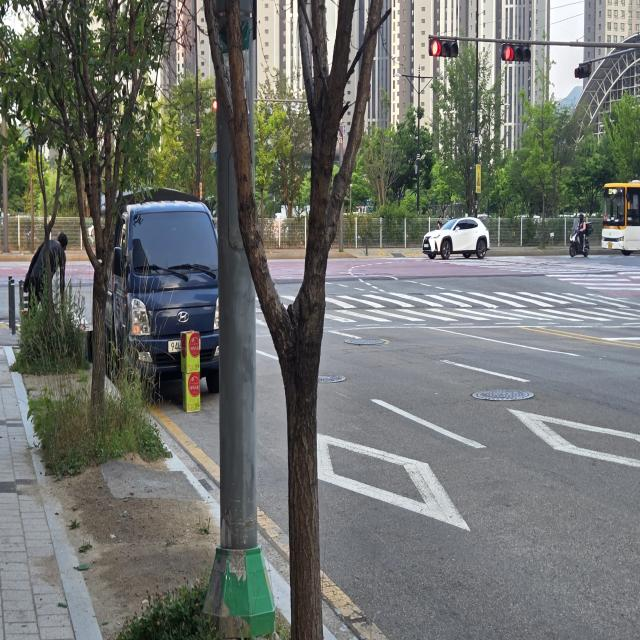car: (86, 168, 252, 442), (419, 208, 499, 271)
